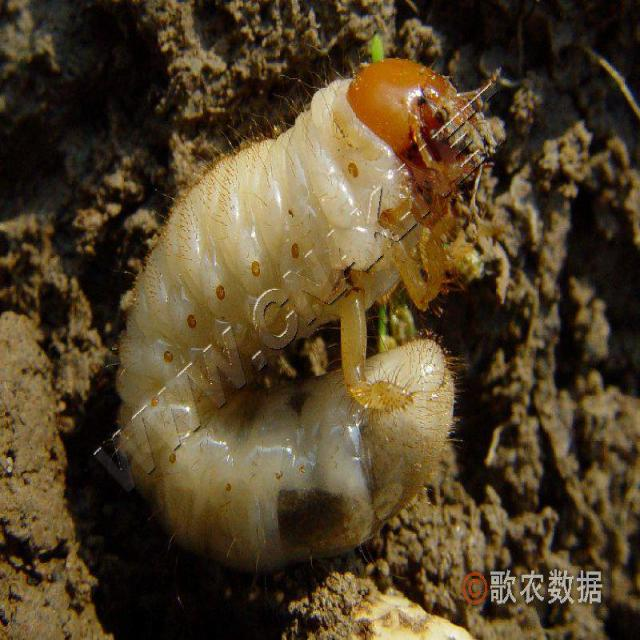Grub-Adult-: (80, 42, 510, 567)
